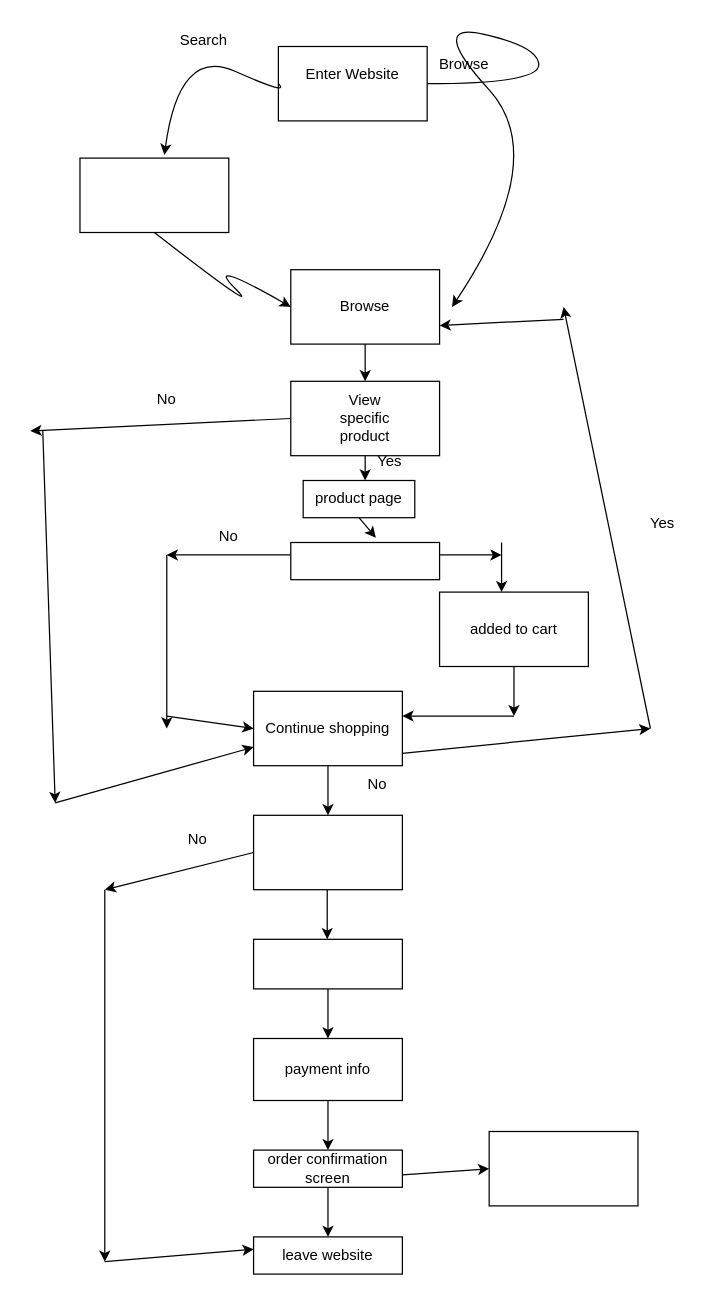
The diagram is 722 pixels wide and 1296 high, and some of its shapes have lost their labels. The shapes that lost their labels are listed below. From the top down, each one's centre as x and y in pixels, then its label:
point (154, 194): Enter Search query
point (365, 560): Add to cart
point (327, 852): checkout
point (327, 963): payment screen
point (563, 1168): confirmation email sent
